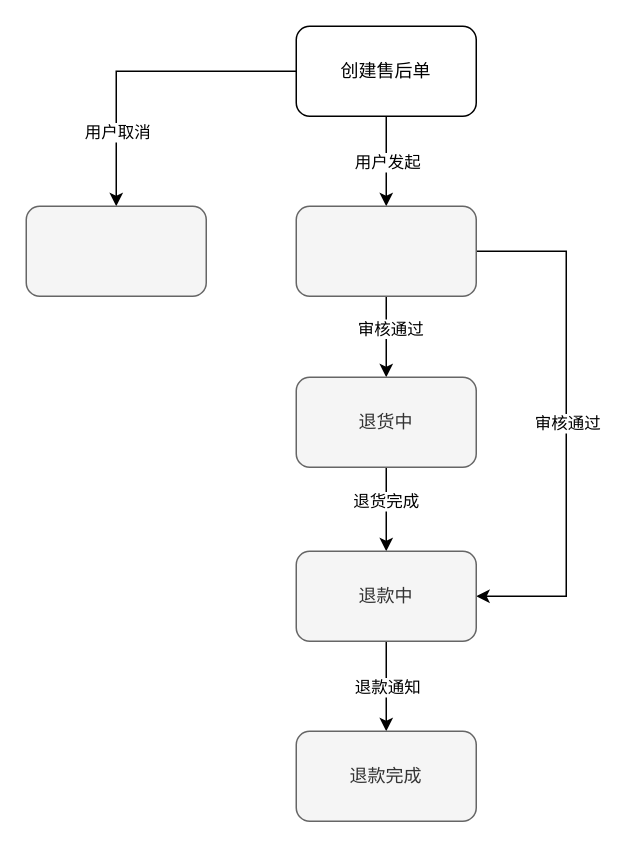
The diagram is 626 pixels wide and 848 high, and some of its shapes have lost their labels. The box of each missing label's shape, as (x1, y1, x2, y2) in pixels:
售后取消: (25, 205, 206, 296)
待审核: (295, 205, 476, 296)
